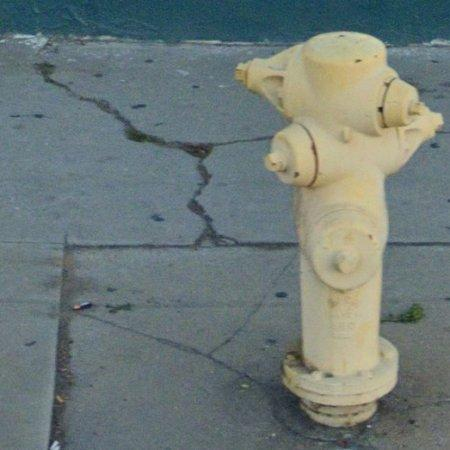a fire hydrant: (236, 31, 444, 428)
